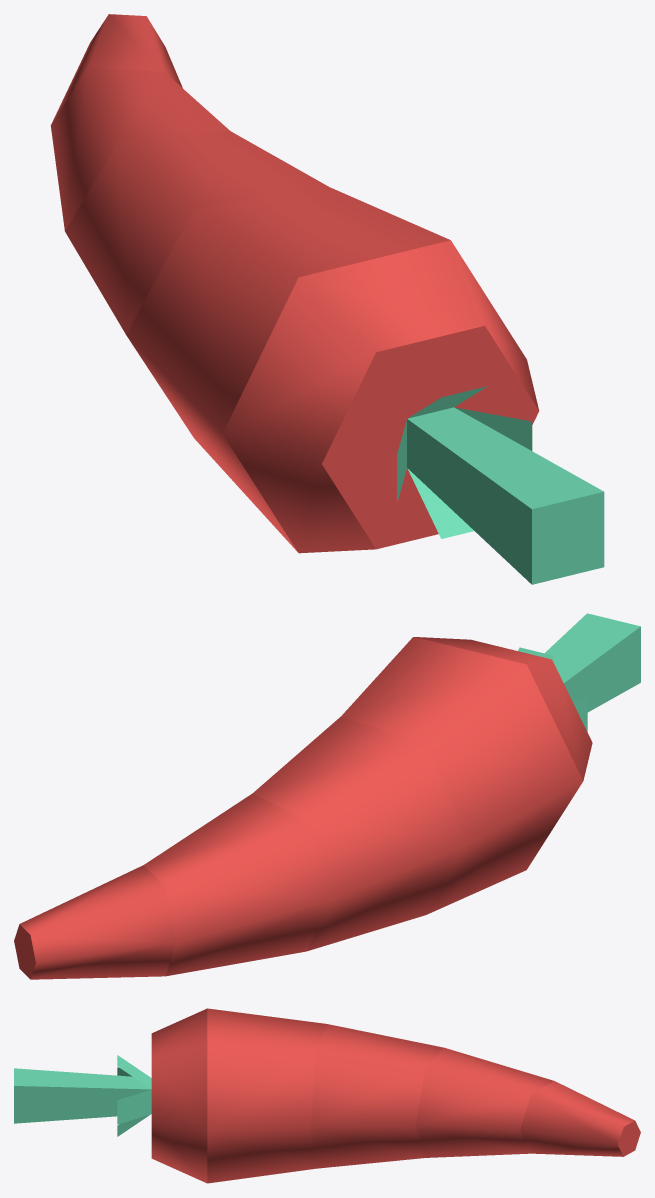
Rendered from Pepper.glb.
3 renders of one model, top to bottom at view 1: azimuth 30°, elevation 25°; view 2: azimuth 150°, elevation 25°; view 3: azimuth 270°, elevation 25°, orthographic. The views are drawn at different scales.
Visible parts, largest first — view 1: pepper; view 2: pepper; view 3: pepper.
Boxes of the visible parts, left/top/right/bottom form: pepper: left=50, top=14, right=604, bottom=584; pepper: left=14, top=613, right=640, bottom=979; pepper: left=14, top=1008, right=640, bottom=1183.
Size of the model in its own units: 0.1039 by 0.0775 by 0.3191.
